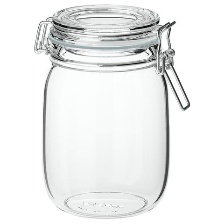bottle: (30, 1, 196, 222)
